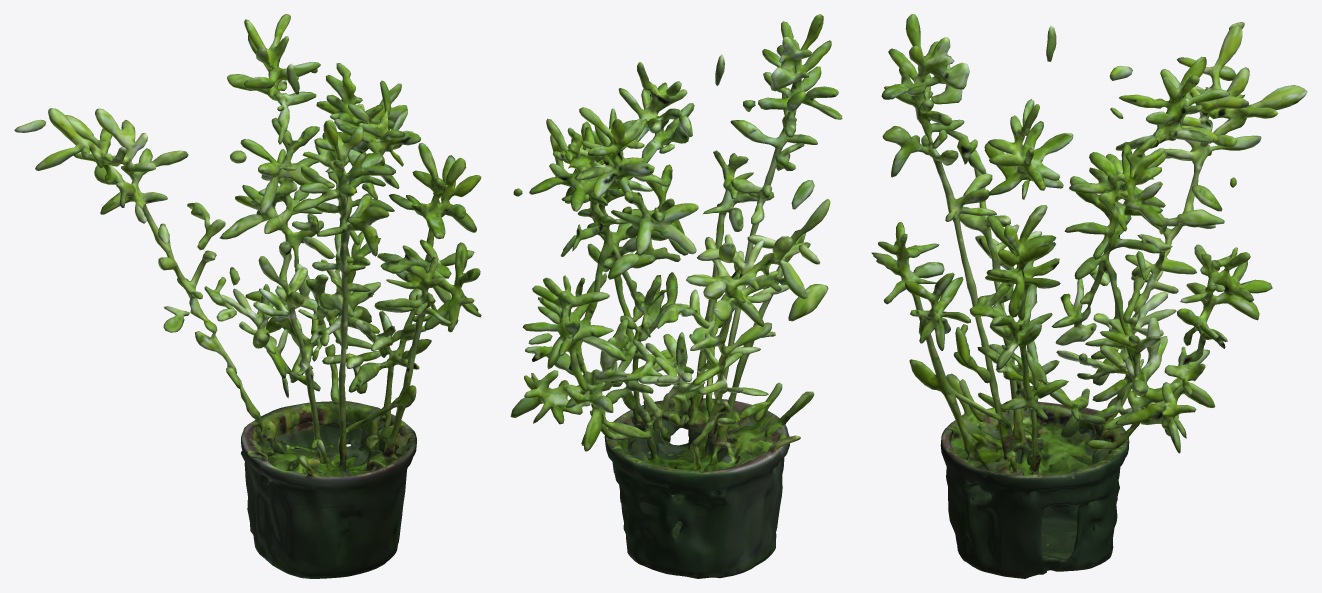
The model's file is herb0004_dup.gltf.
The picture shows the model from 3 angles, left to right: view 1: azimuth 30°, elevation 25°; view 2: azimuth 150°, elevation 25°; view 3: azimuth 270°, elevation 25°; orthographic projection. The views are drawn at different scales.
Visible parts, largest first — view 1: Mesh_0.007; view 2: Mesh_0.007; view 3: Mesh_0.007.
Boxes of the visible parts, left/top/right/bottom form: Mesh_0.007: left=14, top=14, right=481, bottom=578; Mesh_0.007: left=510, top=14, right=842, bottom=578; Mesh_0.007: left=871, top=14, right=1307, bottom=578.
Size of the model in its own units: 1.52 by 2 by 1.55.
Materials: 1 (1 with a texture image).
